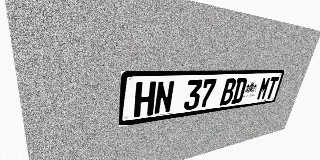3: (183, 79, 203, 111)
7: (198, 79, 217, 109)
B: (219, 78, 237, 106)
D: (231, 78, 248, 104)
H: (133, 81, 156, 118)
M: (256, 77, 271, 100)
N: (153, 81, 175, 115)
T: (264, 76, 279, 99)
